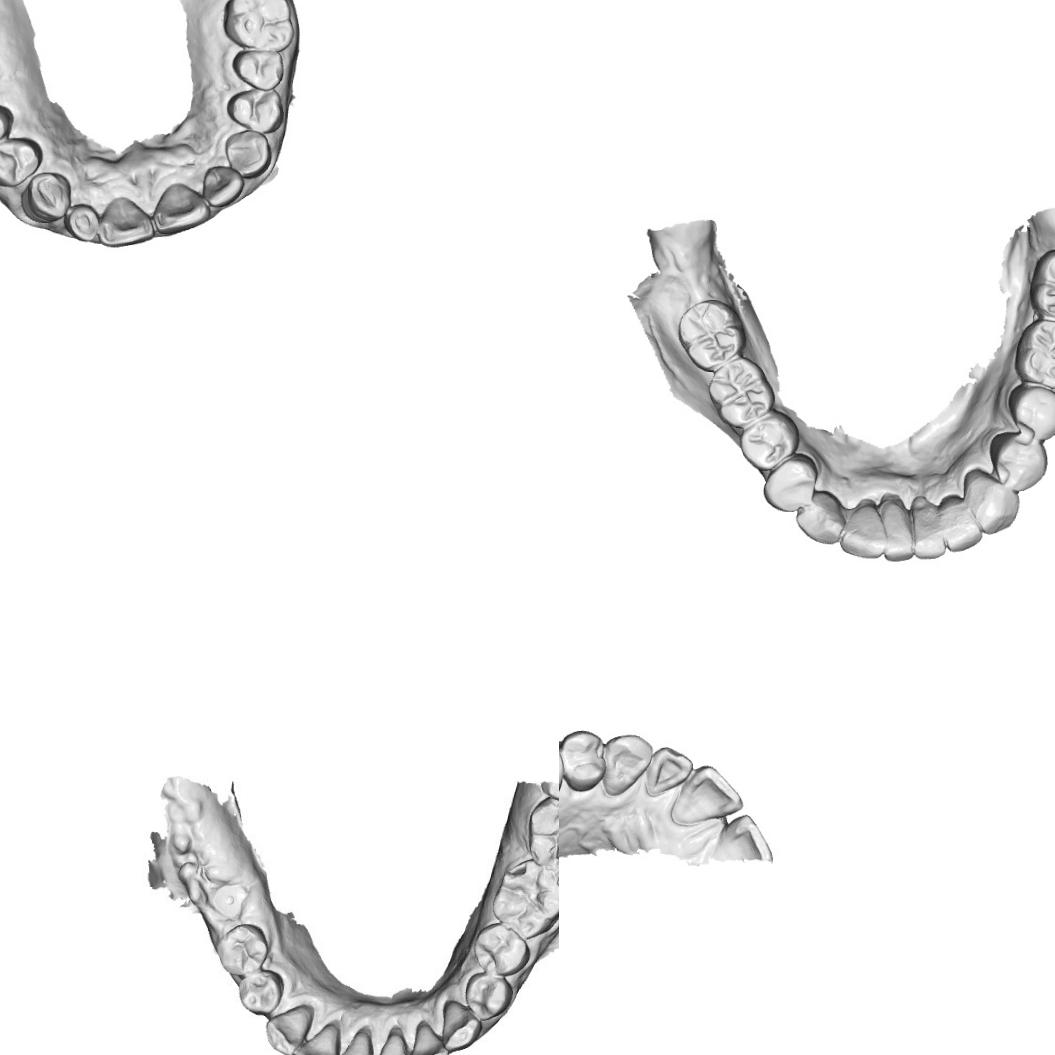canine: (961, 471, 1022, 536), (602, 732, 654, 798), (22, 168, 76, 224), (794, 488, 846, 546), (222, 128, 274, 181), (263, 1001, 313, 1055), (442, 1000, 480, 1051)
incisor: (670, 762, 746, 828), (149, 174, 214, 238), (94, 192, 162, 250), (839, 498, 890, 564), (710, 812, 774, 864), (936, 494, 984, 554), (643, 745, 695, 800), (877, 498, 917, 564), (909, 494, 948, 561), (199, 164, 248, 210), (64, 196, 108, 244), (293, 1017, 339, 1055), (406, 1019, 448, 1055), (367, 1027, 415, 1055), (334, 1024, 374, 1055)
molar: (674, 298, 750, 374), (706, 354, 778, 432), (492, 854, 559, 937), (220, 0, 296, 55), (1011, 318, 1055, 391), (1026, 246, 1055, 322), (530, 797, 559, 870)
premolar: (738, 409, 801, 472), (988, 430, 1050, 492), (761, 453, 817, 515), (470, 922, 531, 976), (559, 728, 607, 793), (214, 922, 272, 975), (1005, 383, 1055, 443), (224, 85, 284, 134), (229, 43, 287, 92), (463, 970, 518, 1018), (232, 968, 286, 1016), (0, 134, 43, 191), (0, 102, 15, 156)
